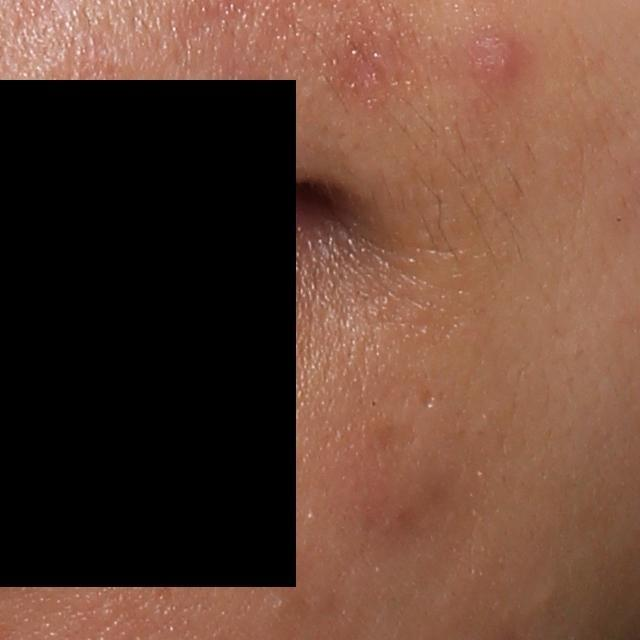atrophic_scar: (418, 385, 438, 412)
comedo: (531, 573, 565, 615)
papule: (467, 34, 522, 91)
